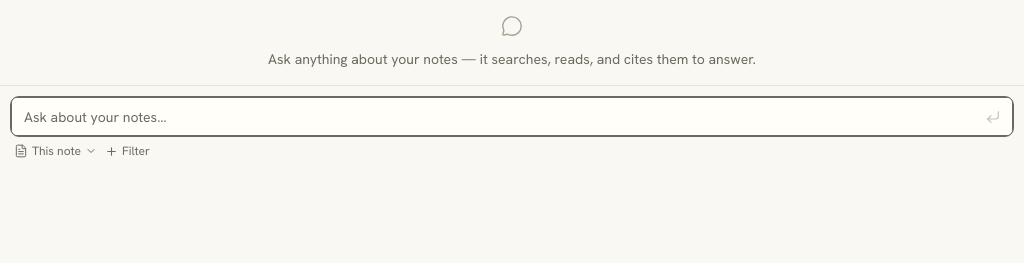
Scenario: ChatPanel retrieval UI (#47) › offers the scope breadths in the Scope popover
Step 1. Click the button with aria-label "Chat scope" → (56,151), box [14,143,97,159]
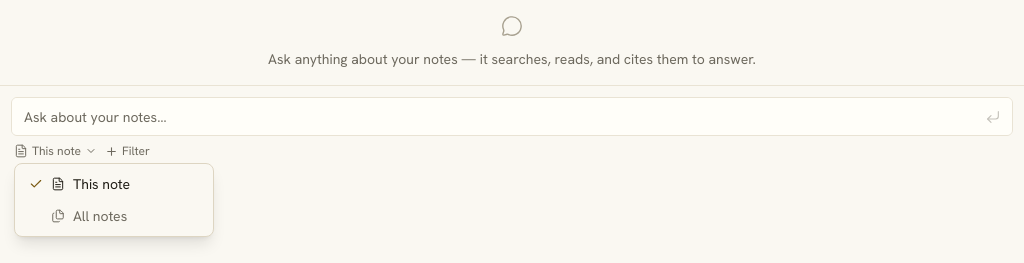
expect the text "All notes" is shown: met, box [73,206,127,226]
